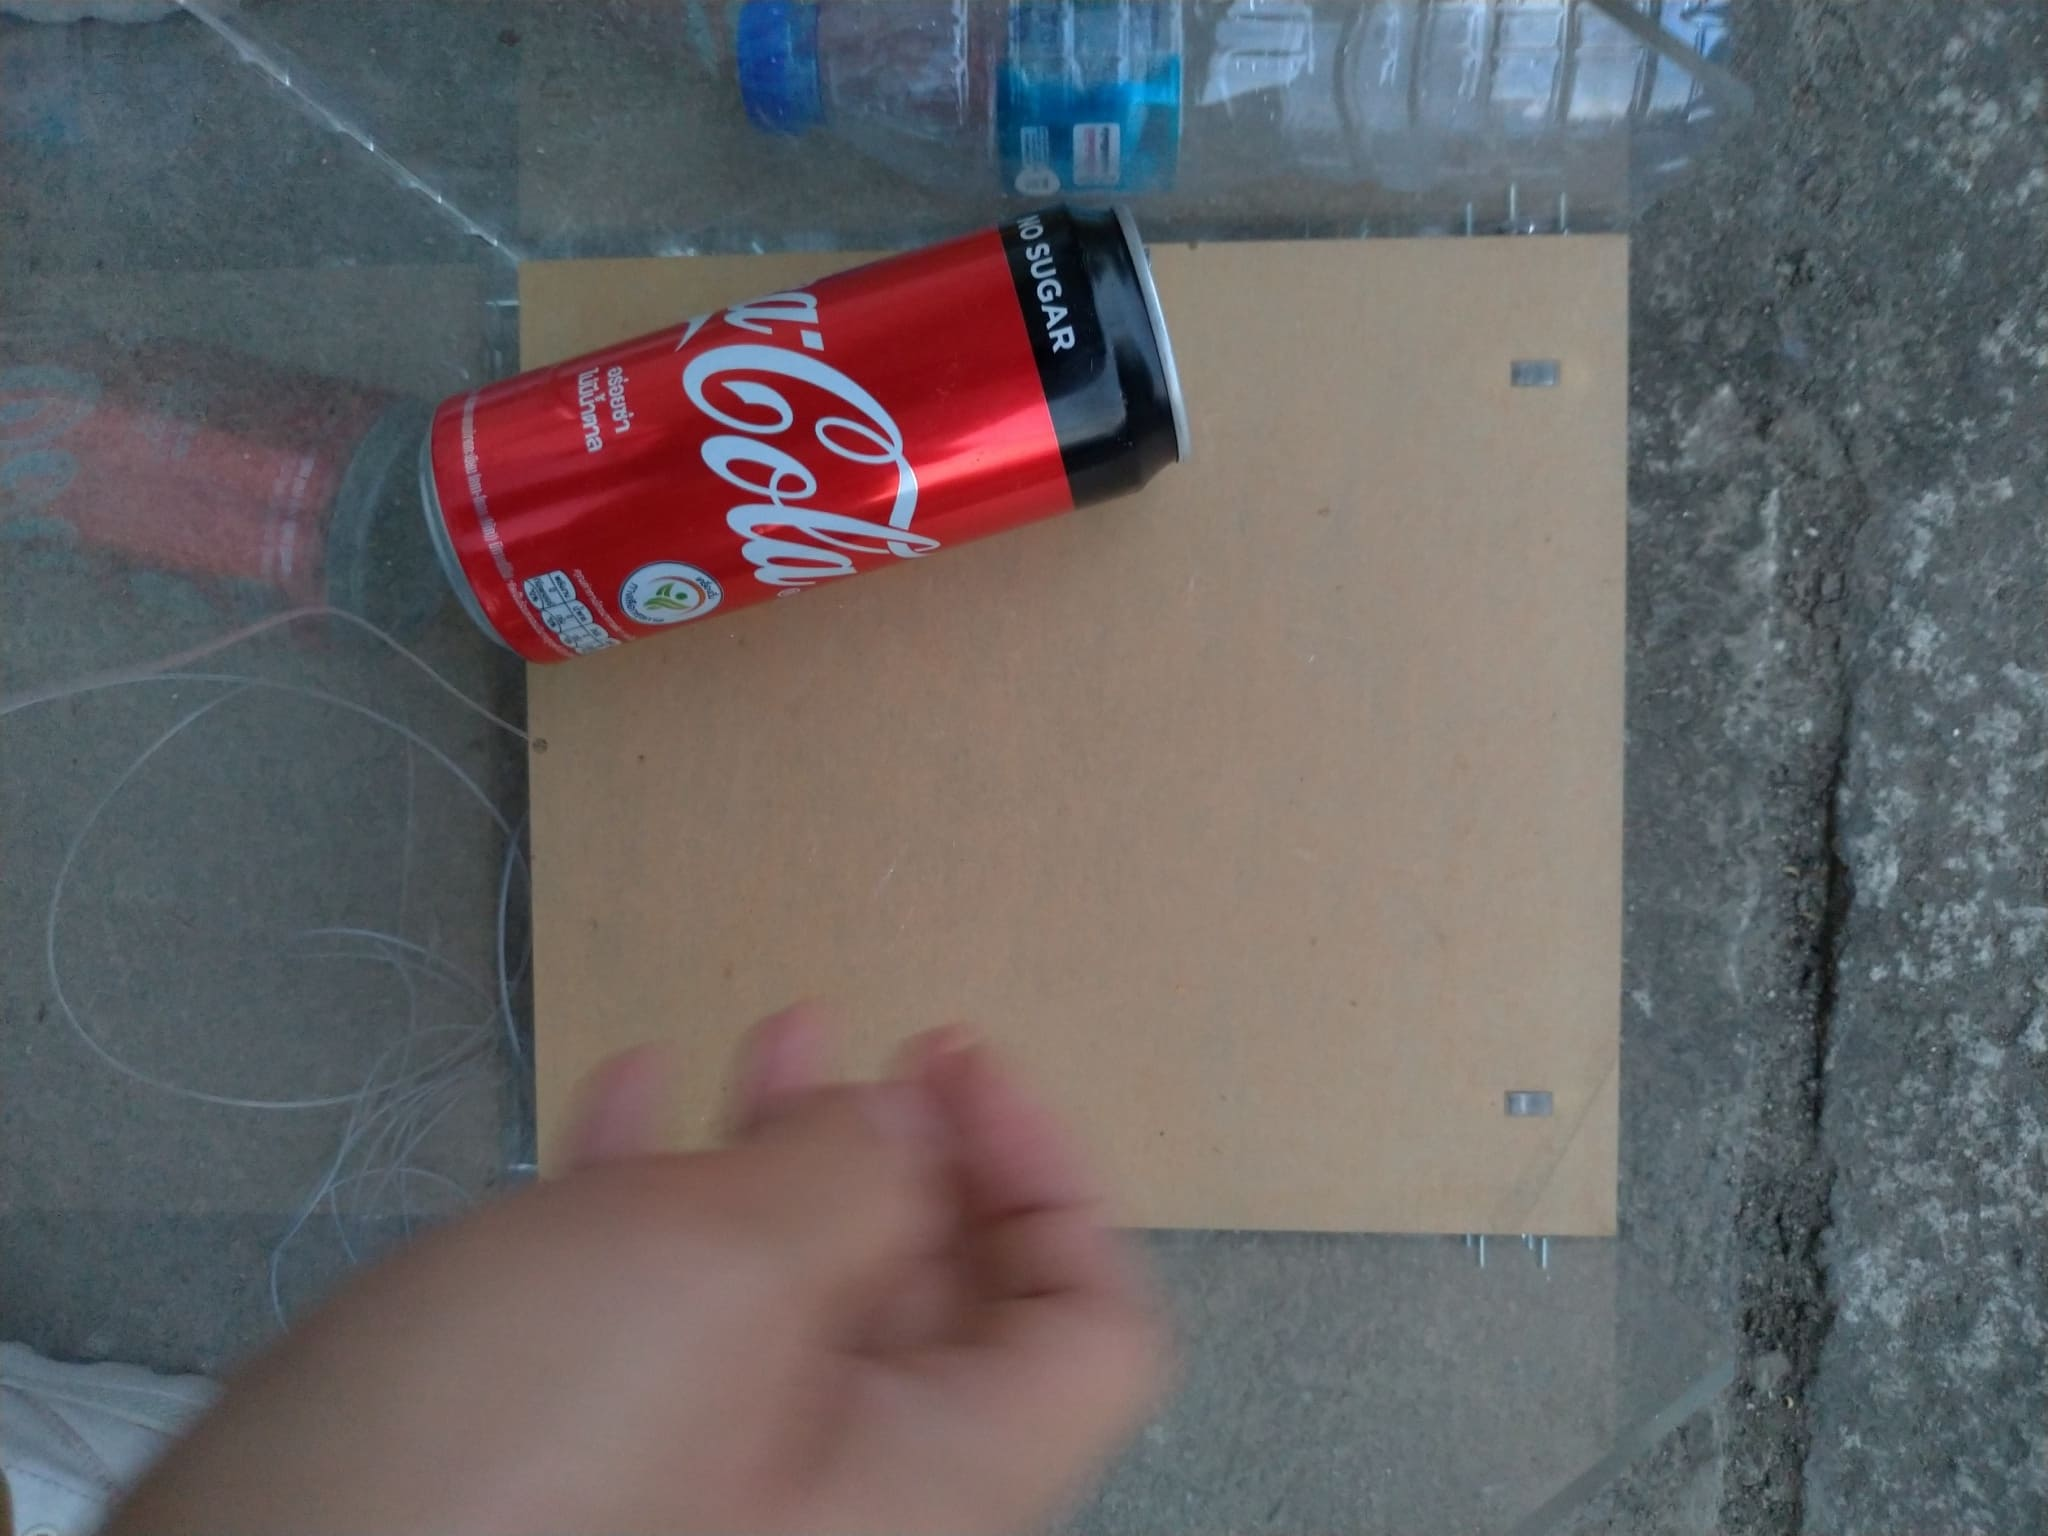AlCan: (419, 210, 1201, 666)
PlasticBottle: (734, 6, 1779, 223)
